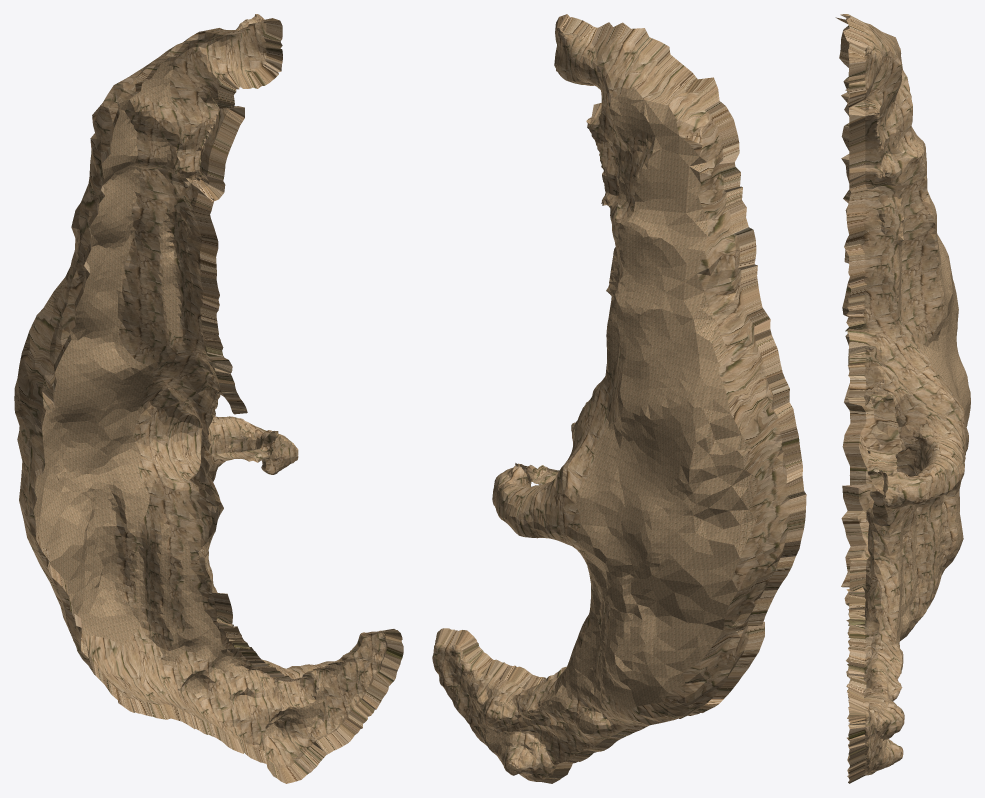
Rendered from Mountain.fbx.
The picture shows the model from 3 angles, left to right: view 1: azimuth 30°, elevation 25°; view 2: azimuth 150°, elevation 25°; view 3: azimuth 270°, elevation 25°; orthographic projection. The views are drawn at different scales.
Parts seen in each view (by area): view 1: Mountain001; view 2: Mountain001; view 3: Mountain001.
Part boxes in pixels (box(x1,y1,x2,y2)): Mountain001: box(14, 14, 403, 783); Mountain001: box(432, 14, 806, 783); Mountain001: box(835, 14, 970, 783).
Size of the model in its own units: 6405 by 12795 by 2170.
Materials: 1 (1 with a texture image).
